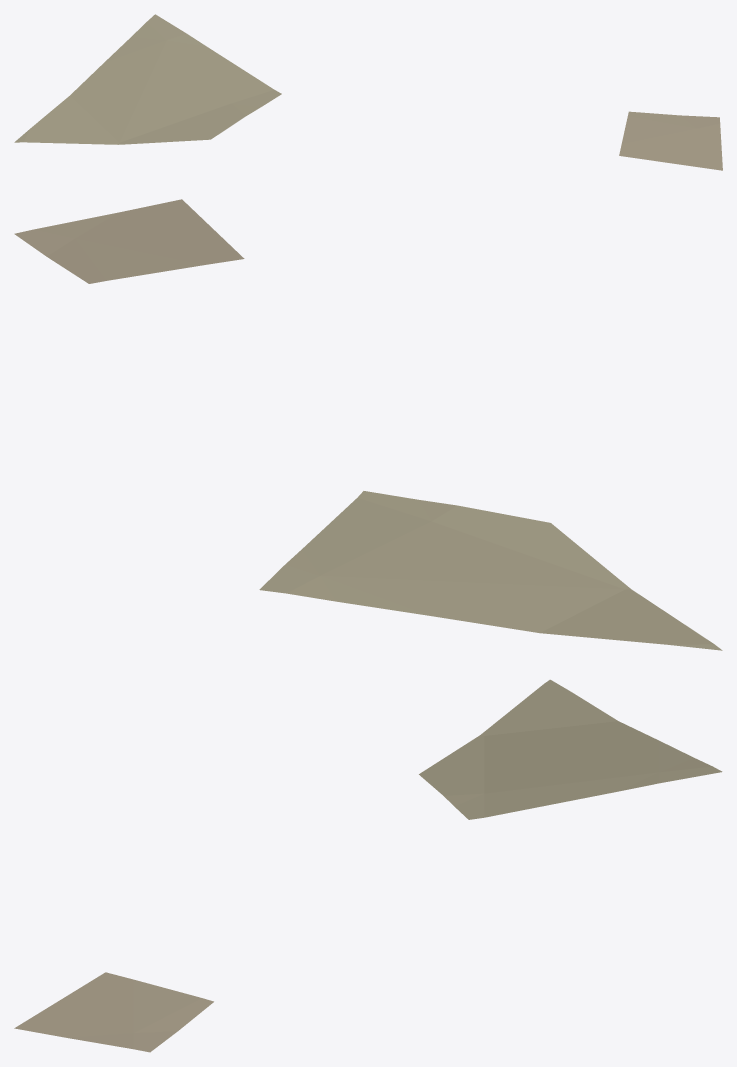
Rendered from farm_-34_-26_soil.glb.
The picture shows the model from 3 angles, top to bottom: view 1: azimuth 30°, elevation 25°; view 2: azimuth 150°, elevation 25°; view 3: azimuth 270°, elevation 25°; orthographic projection. The views are drawn at different scales.
Visible parts, largest first — view 1: geometry_0; view 2: geometry_0; view 3: geometry_0.
Part boxes in pixels (left/top/right/bottom): geometry_0: left=14, top=14, right=722, bottom=170; geometry_0: left=14, top=199, right=722, bottom=650; geometry_0: left=14, top=679, right=722, bottom=1052.
Bounding box in the file's own units: 399 × 27.2 × 324.
